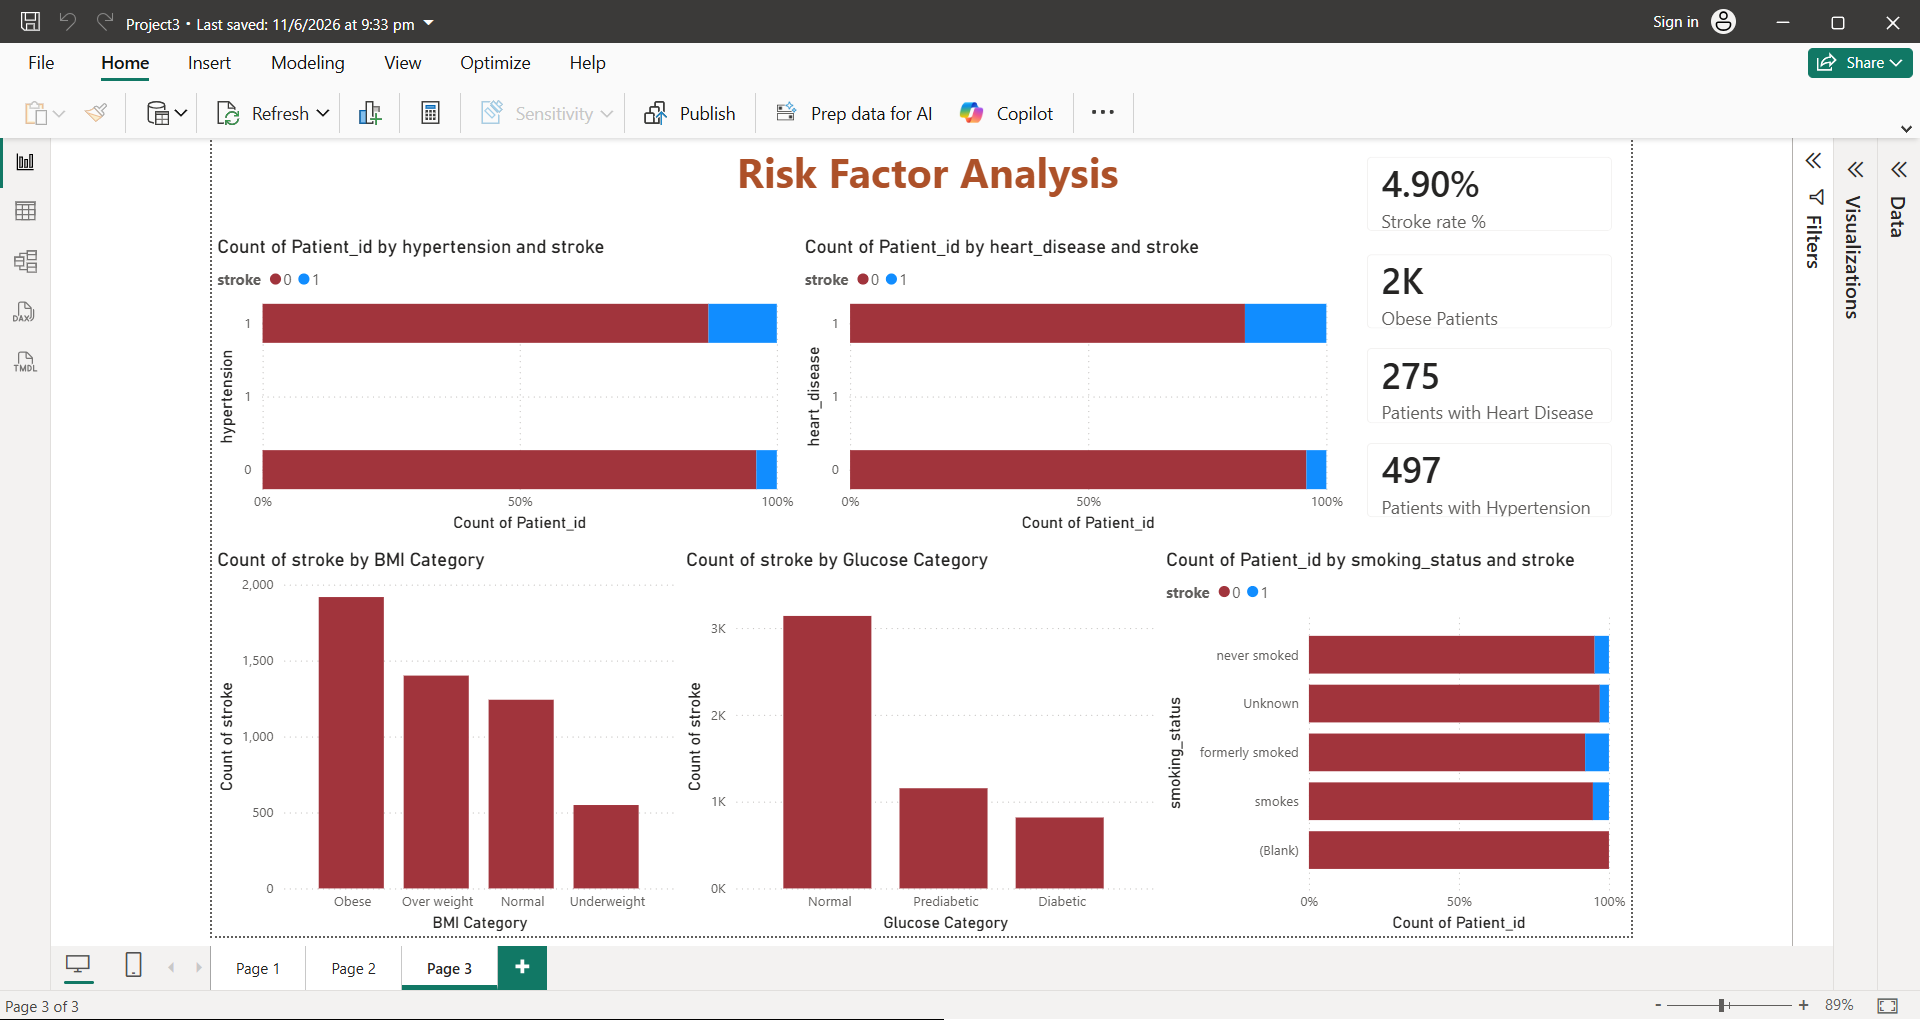

The dashboard page shown, as its layout file describes it:
{"tool":"powerbi","page":{"name":"Page 3","canvas":[1280,720],"ordinal":2},"visuals":[{"type":"textbox","box":[9.8,0,1270.5,88],"z":0},{"type":"hundredPercentStackedBarChart","fields":{"Category":["Risk_Factors_Table.hypertension"],"Series":["Risk_Factors_Table.stroke"],"Y":["CountNonNull(Risk_Factors_Table.Patient_id)"]},"box":[0,88,529.5,271.5],"z":1},{"type":"hundredPercentStackedBarChart","fields":{"Category":["Risk_Factors_Table.heart_disease"],"Series":["Risk_Factors_Table.stroke"],"Y":["CountNonNull(Risk_Factors_Table.Patient_id)"]},"box":[529.5,88,495.2,271.5],"z":2},{"type":"hundredPercentStackedBarChart","fields":{"Category":["Risk_Factors_Table.smoking_status"],"Series":["Risk_Factors_Table.stroke"],"Y":["CountNonNull(Risk_Factors_Table.Patient_id)"]},"box":[856,369.3,424.3,351],"z":3},{"type":"clusteredColumnChart","fields":{"Category":["Risk_Factors_Table.BMI Category"],"Y":["CountNonNull(Risk_Factors_Table.stroke)"]},"box":[0,369.3,423.1,351],"z":4},{"type":"clusteredColumnChart","fields":{"Category":["Risk_Factors_Table.Glucose Category"],"Y":["CountNonNull(Risk_Factors_Table.stroke)"]},"box":[423.1,369.3,432.9,351],"z":5},{"type":"cardVisual","fields":{"Data":["Measure.Obese Patients"]},"box":[1024.7,88,255.6,101.5],"z":6},{"type":"cardVisual","fields":{"Data":["Measure.Patients with Heart Disease"]},"box":[1024.7,172.4,255.6,102.7],"z":7},{"type":"cardVisual","fields":{"Data":["Measure.Patients with Hypertension"]},"box":[1024.7,258,255.6,101.5],"z":8},{"type":"cardVisual","fields":{"Data":["Measure.Stroke rate %"]},"box":[1024.7,0,255.6,101.5],"z":9}]}

Visuals, with their boxes on the page's 1280x720 design canvas (x1, y1, x2, y2). These are canvas units, not pixel positions in the 1920x1020 screenshot, which may show the page scaled, cropped or inside an application window:
textbox: [10,0,1280,88]
hundredPercentStackedBarChart - Risk_Factors_Table.hypertension x Risk_Factors_Table.stroke: [0,88,530,360]
hundredPercentStackedBarChart - Risk_Factors_Table.heart_disease x Risk_Factors_Table.stroke: [530,88,1025,360]
hundredPercentStackedBarChart - Risk_Factors_Table.smoking_status x Risk_Factors_Table.stroke: [856,369,1280,720]
clusteredColumnChart - Risk_Factors_Table.BMI Category x CountNonNull(Risk_Factors_Table.stroke): [0,369,423,720]
clusteredColumnChart - Risk_Factors_Table.Glucose Category x CountNonNull(Risk_Factors_Table.stroke): [423,369,856,720]
cardVisual - Measure.Obese Patients: [1025,88,1280,190]
cardVisual - Measure.Patients with Heart Disease: [1025,172,1280,275]
cardVisual - Measure.Patients with Hypertension: [1025,258,1280,360]
cardVisual - Measure.Stroke rate %: [1025,0,1280,102]
